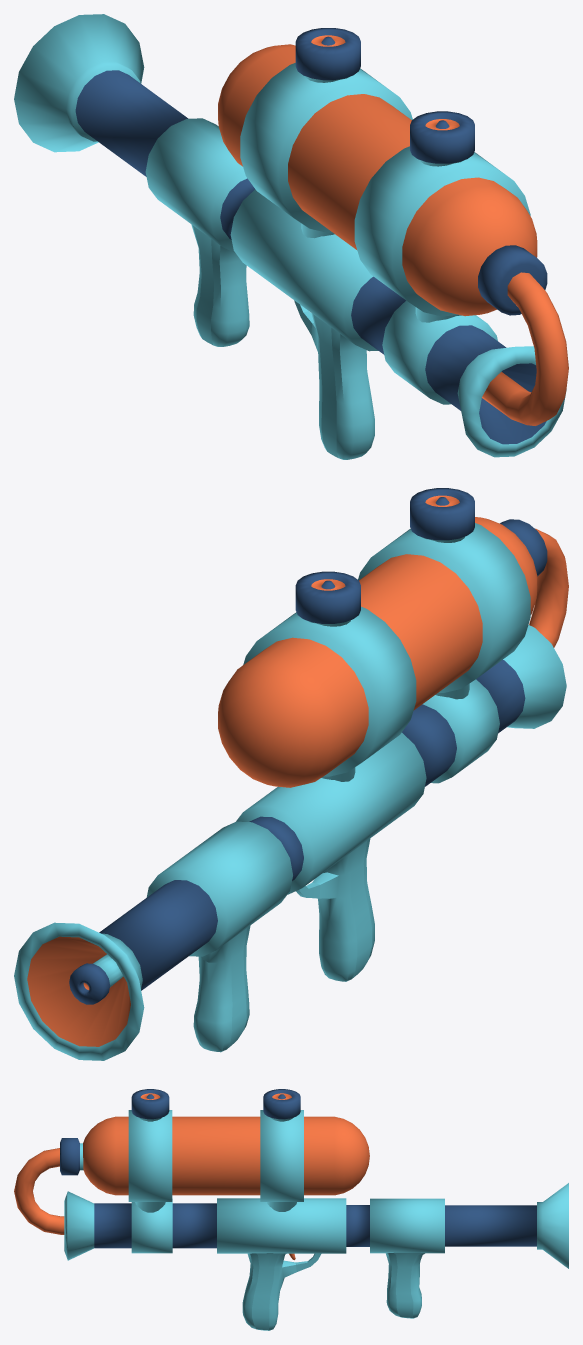
The model's file is gun_1.fbx.
The picture shows the model from 3 angles, top to bottom: view 1: azimuth 30°, elevation 25°; view 2: azimuth 150°, elevation 25°; view 3: azimuth 270°, elevation 25°; orthographic projection. The views are drawn at different scales.
Parts seen in each view (by area): view 1: Cube.005; view 2: Cube.005; view 3: Cube.005.
Boxes of the visible parts, x1=… form: Cube.005: x1=14, y1=14, x2=568, y2=459; Cube.005: x1=14, y1=488, x2=568, y2=1060; Cube.005: x1=14, y1=1089, x2=568, y2=1330.
Bounding box in the file's own units: 520 × 1463 × 3142.
